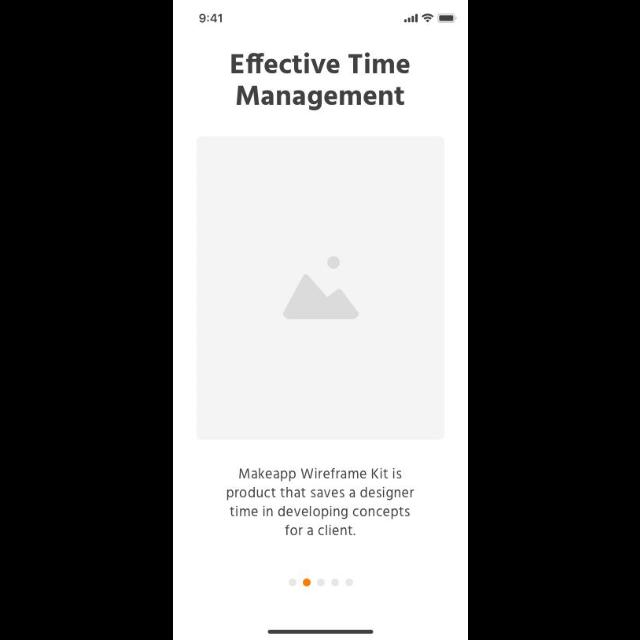image: (197, 137, 443, 440)
pageindicator: (288, 579, 354, 587)
text: (224, 468, 413, 536), (230, 52, 410, 111)
uppertaskbar: (199, 12, 457, 24)
